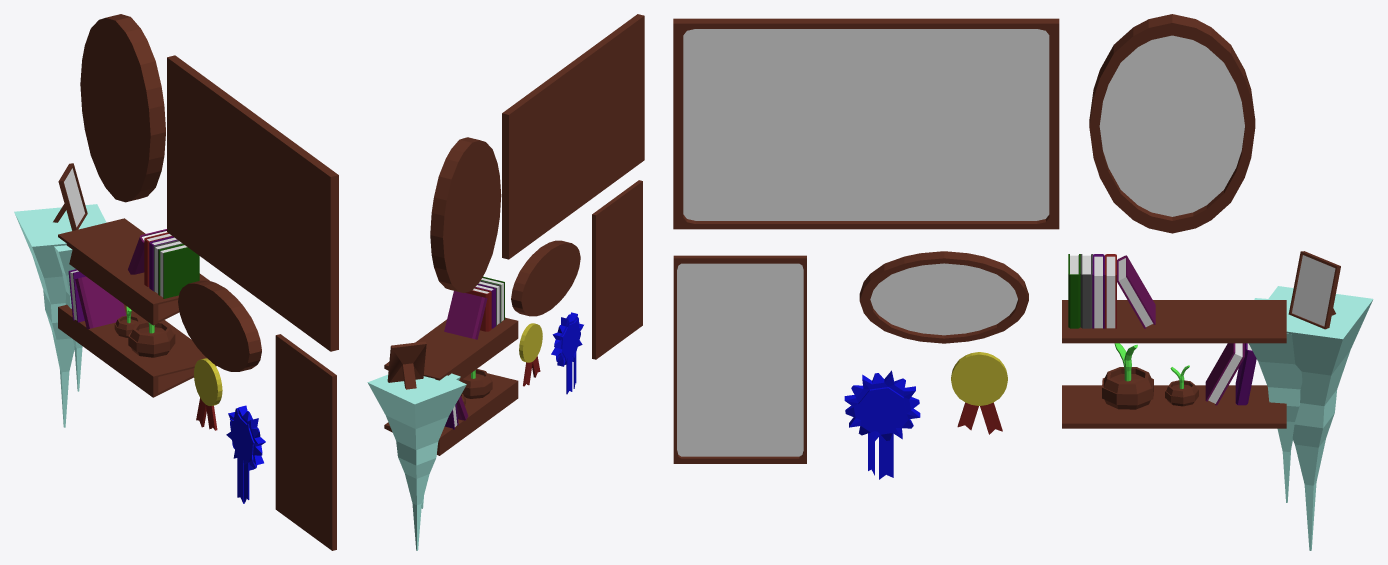
File: portraits_decoration.glb
3 renders of one model, left to right at view 1: azimuth 30°, elevation 25°; view 2: azimuth 150°, elevation 25°; view 3: azimuth 270°, elevation 25°, orthographic. The views are drawn at different scales.
Visible parts, largest first — view 1: Cube, Cylinder, Cube.001, Cube.003, Cylinder.001, Cone.001, Cube.013, Cube.009, Cylinder.002, Cylinder.004, Cylinder.003, Cube.011 (+1 smaller); view 2: Cube, Cylinder, Cube.001, Cone.001, Cube.003, Cylinder.001, Cube.013, Cube.011, Cylinder.002, Cylinder.003, Cylinder.004, Cube.009; view 3: Cube, Cylinder, Cube.001, Cube.003, Cylinder.001, Cone.001, Cube.013, Cylinder.002, Cylinder.003, Cone.002, Cylinder.004, Cube.011 (+1 smaller).
Part boxes in pixels (left/top/right/bottom): Cube: left=167, top=55, right=338, bottom=351; Cylinder: left=80, top=14, right=165, bottom=202; Cube.001: left=275, top=334, right=336, bottom=550; Cube.003: left=58, top=218, right=216, bottom=397; Cylinder.001: left=178, top=280, right=261, bottom=371; Cone.001: left=14, top=204, right=106, bottom=427; Cube.013: left=128, top=229, right=199, bottom=298; Cube.009: left=68, top=269, right=126, bottom=329; Cylinder.002: left=226, top=405, right=265, bottom=503; Cylinder.004: left=114, top=306, right=175, bottom=357; Cylinder.003: left=194, top=358, right=222, bottom=430; Cube.011: left=53, top=163, right=87, bottom=230; Cube: left=502, top=14, right=644, bottom=259; Cylinder: left=430, top=137, right=501, bottom=292; Cube.001: left=592, top=180, right=642, bottom=359; Cone.001: left=367, top=374, right=466, bottom=550; Cube.003: left=384, top=317, right=518, bottom=455; Cylinder.001: left=511, top=240, right=580, bottom=316; Cube.013: left=444, top=276, right=504, bottom=339; Cube.011: left=387, top=341, right=426, bottom=389; Cylinder.002: left=551, top=312, right=583, bottom=394; Cylinder.003: left=519, top=323, right=542, bottom=386; Cylinder.004: left=460, top=369, right=492, bottom=405; Cube.009: left=444, top=395, right=468, bottom=429; Cube: left=673, top=18, right=1059, bottom=229; Cylinder: left=1089, top=14, right=1255, bottom=233; Cube.001: left=673, top=255, right=806, bottom=463; Cube.003: left=1062, top=300, right=1286, bottom=428; Cylinder.001: left=859, top=251, right=1028, bottom=343; Cone.001: left=1268, top=286, right=1373, bottom=550; Cube.013: left=1068, top=254, right=1155, bottom=328; Cylinder.002: left=844, top=370, right=920, bottom=479; Cylinder.003: left=951, top=352, right=1007, bottom=434; Cone.002: left=1248, top=298, right=1302, bottom=502; Cylinder.004: left=1102, top=343, right=1198, bottom=409; Cube.011: left=1288, top=251, right=1340, bottom=329.
Size of the model in its own units: 0.8485 by 3.81 by 4.54.
